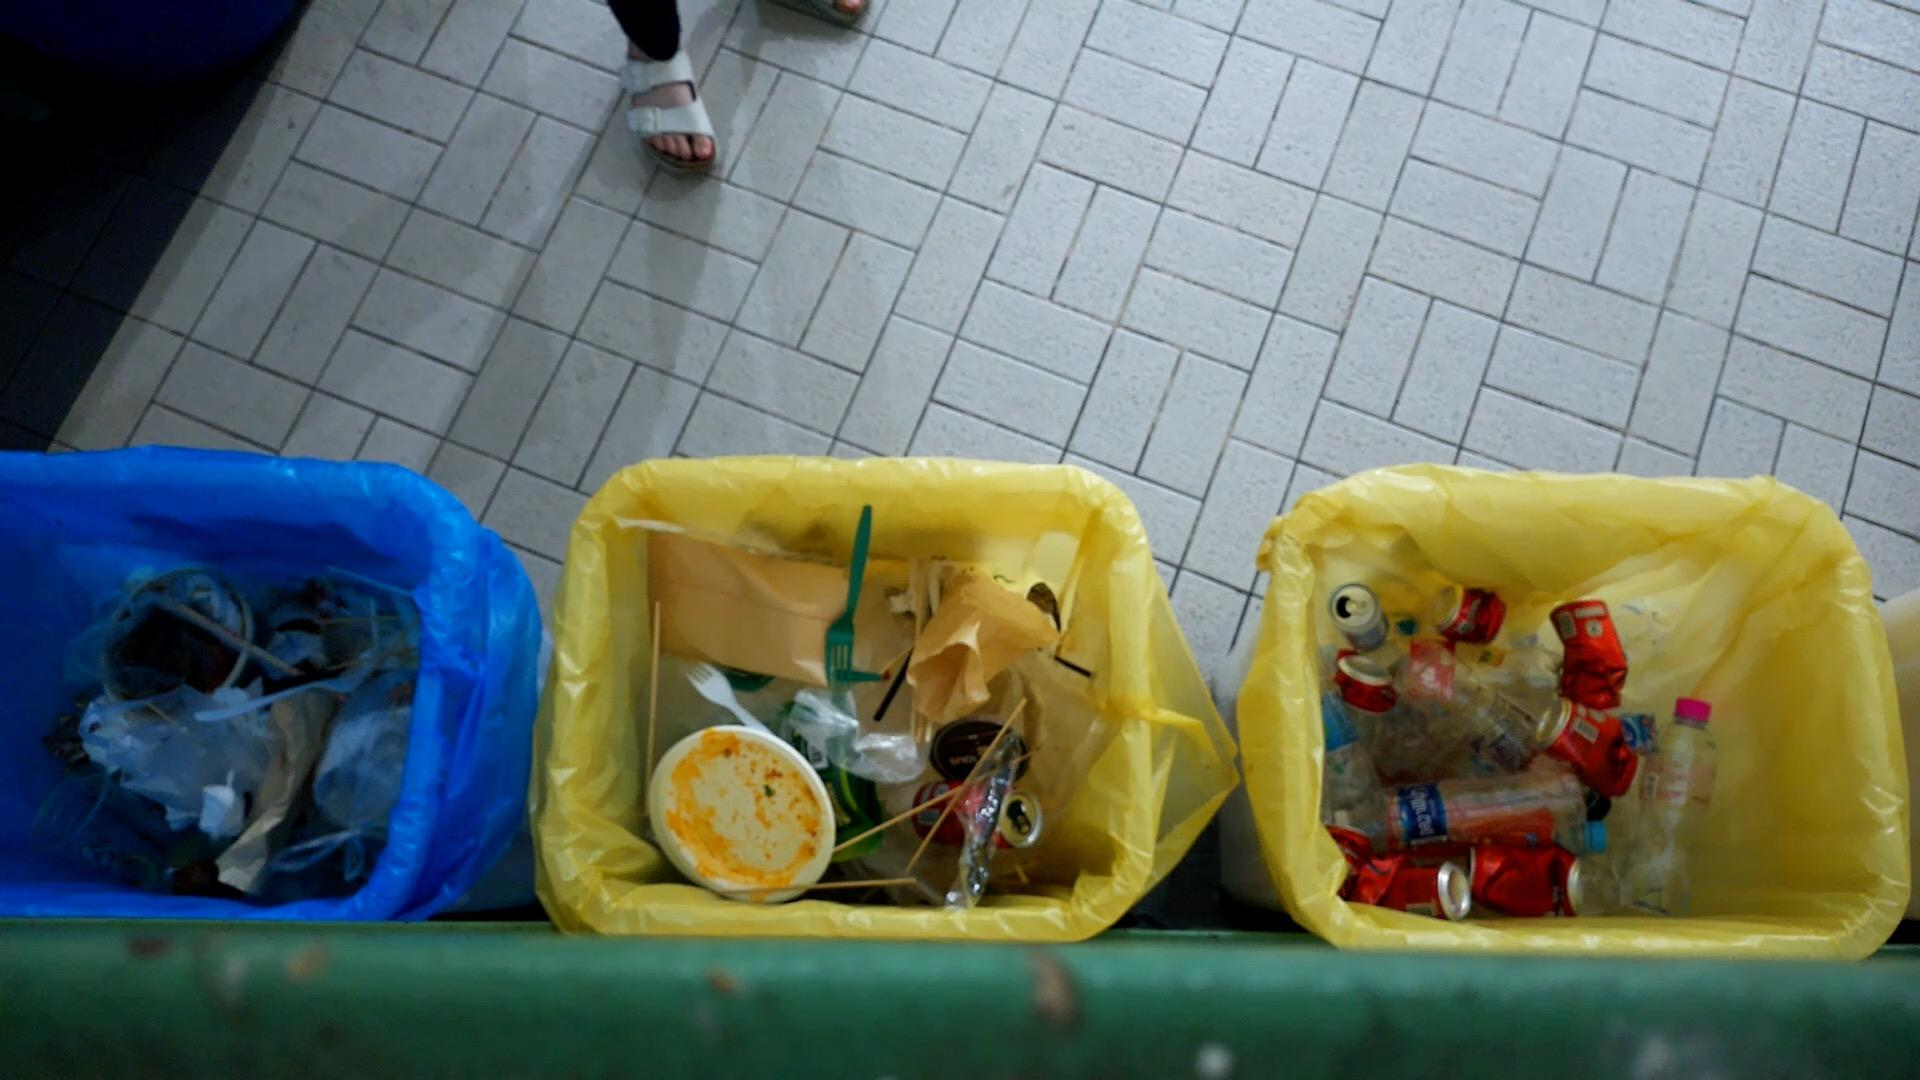can: (911, 779, 1046, 858)
filled plastic bag: (262, 703, 417, 877)
paper bag: (640, 527, 851, 684), (215, 691, 334, 898), (907, 576, 1060, 725)
plastic bottle: (1611, 694, 1718, 920), (1336, 754, 1593, 839)
plastic cutlery: (1535, 694, 1643, 799), (953, 737, 1015, 910), (1547, 595, 1627, 715), (1462, 843, 1588, 919), (825, 504, 874, 692), (1353, 857, 1477, 915), (679, 657, 771, 731), (1432, 578, 1511, 647), (1331, 654, 1400, 720), (1333, 584, 1389, 650)
sticks: (825, 744, 1046, 857), (911, 692, 1031, 864), (160, 593, 297, 674), (720, 874, 916, 897), (640, 600, 662, 783)
tissue paper: (195, 779, 249, 840)
